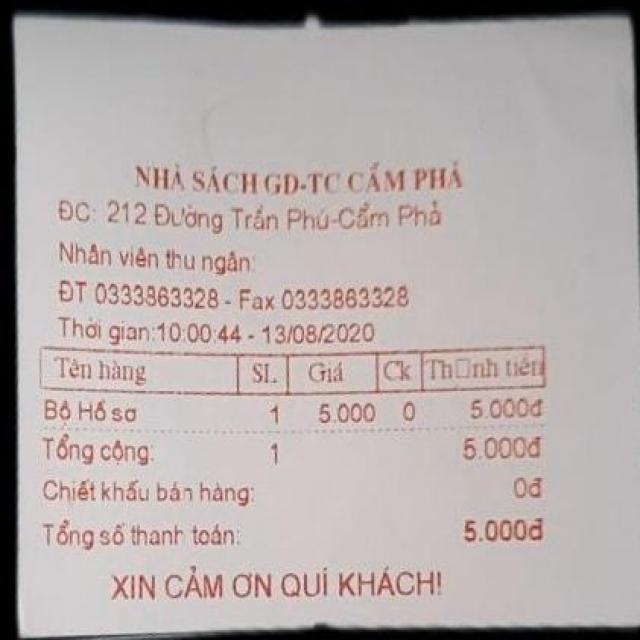Date: (257, 320, 391, 347)
Store_Name: (119, 145, 478, 197)
Total_Amount: (20, 508, 558, 555)
